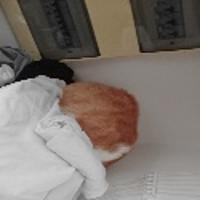asleep: (57, 81, 137, 168)
